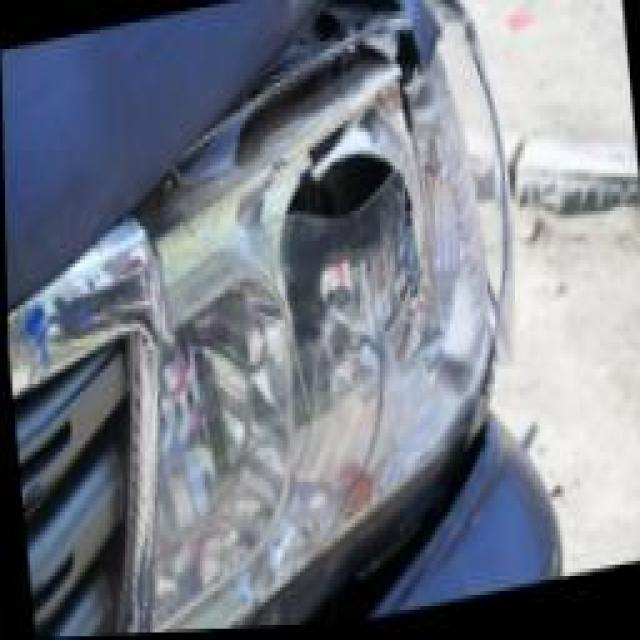Light: (141, 42, 493, 634)
